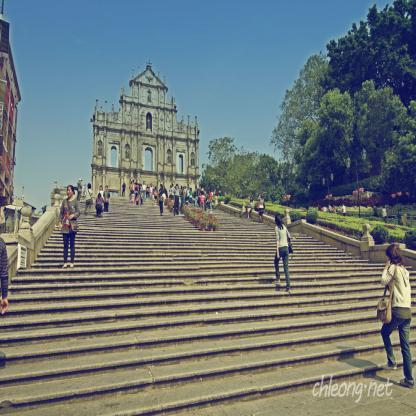person: (373, 241, 416, 390), (268, 211, 298, 292), (57, 184, 80, 270)
stair: (0, 223, 398, 408)
